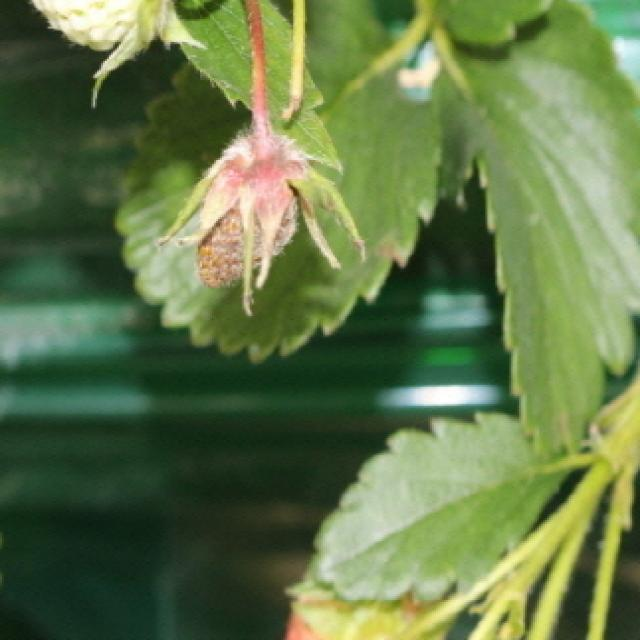Gray Mold: (155, 109, 366, 318)
